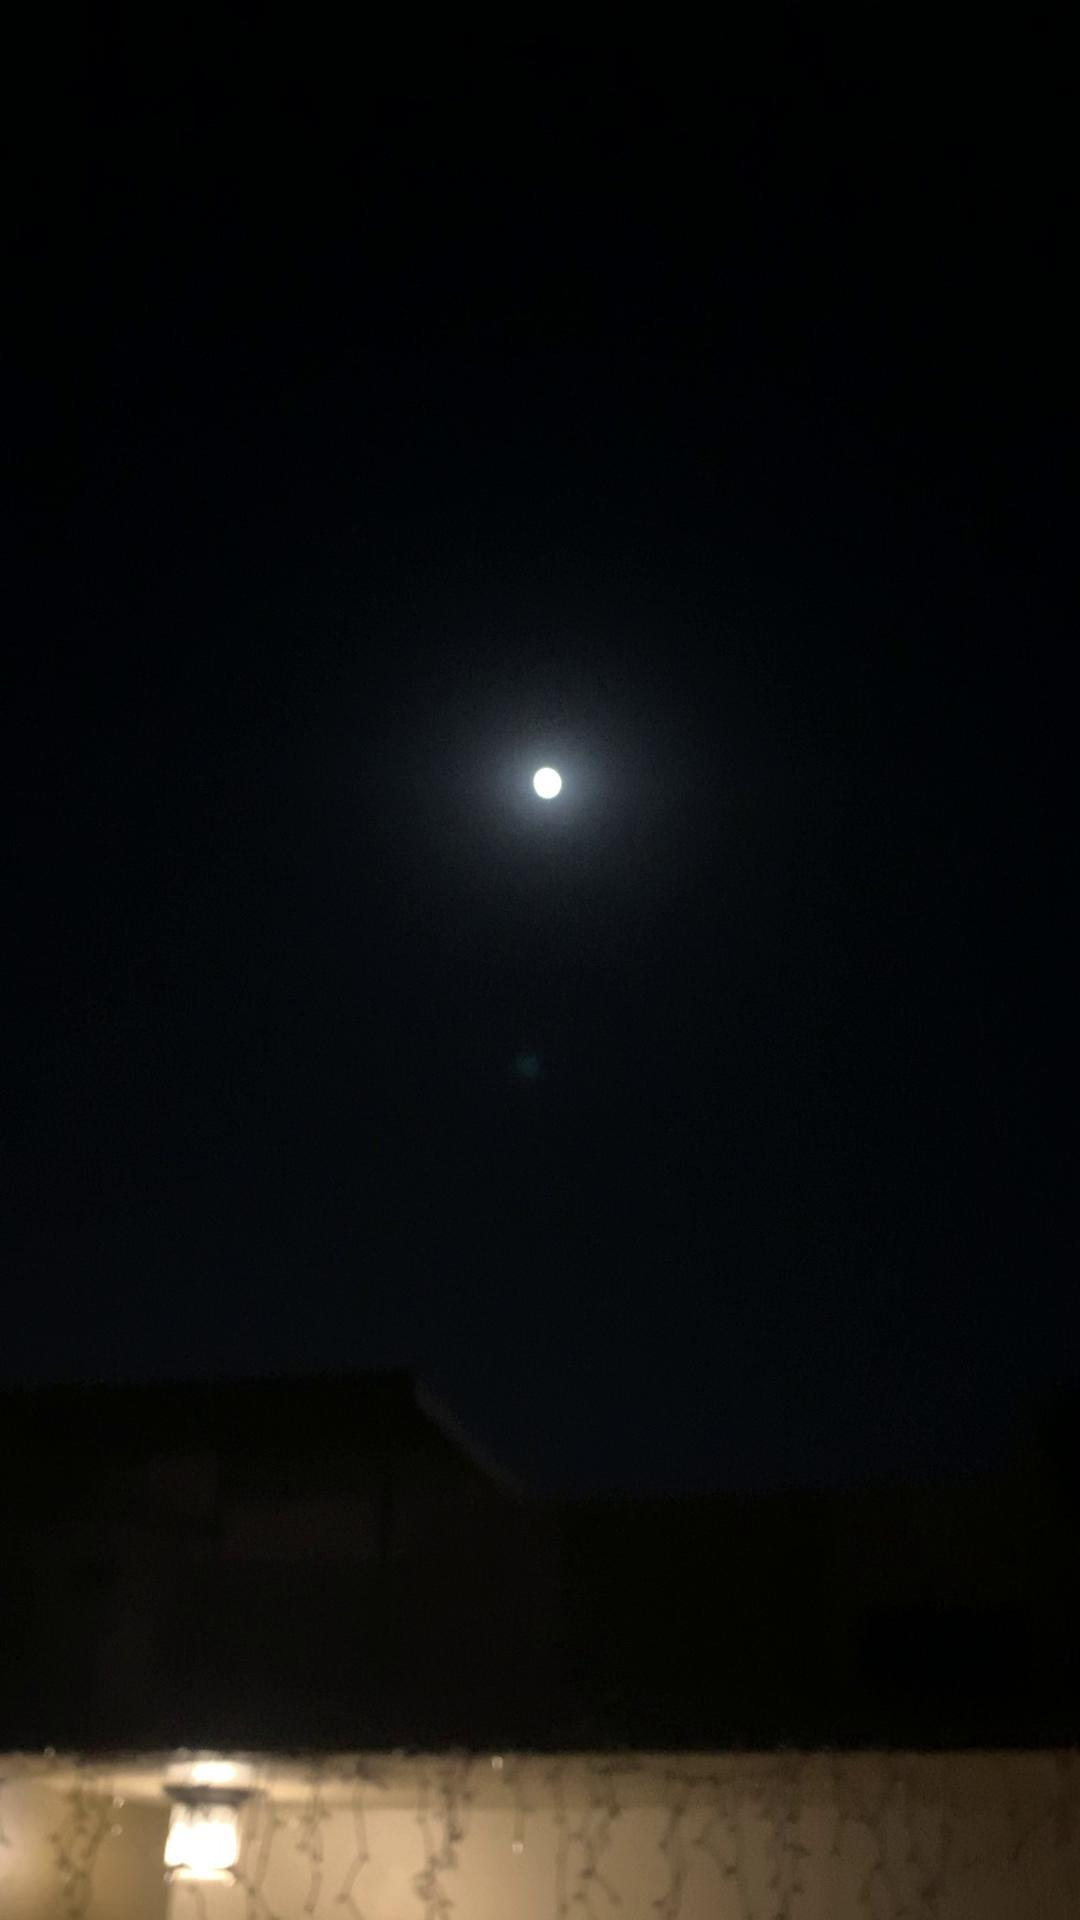moon: (506, 750, 593, 847)
